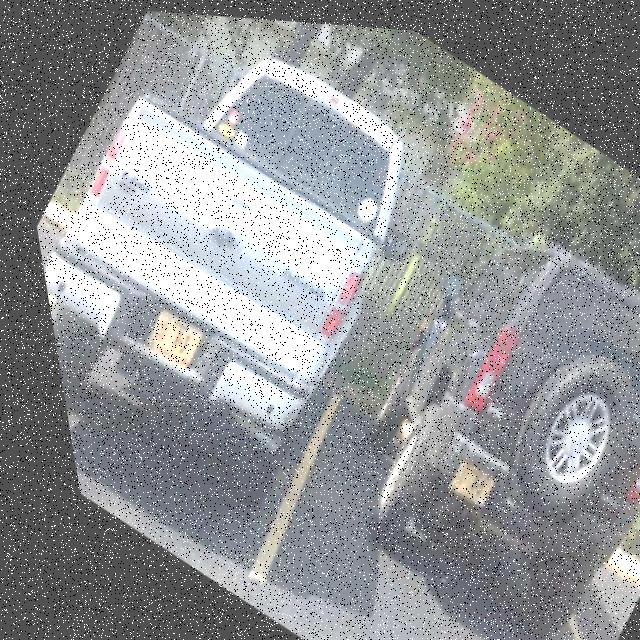license_plate: (127, 300, 200, 371)
